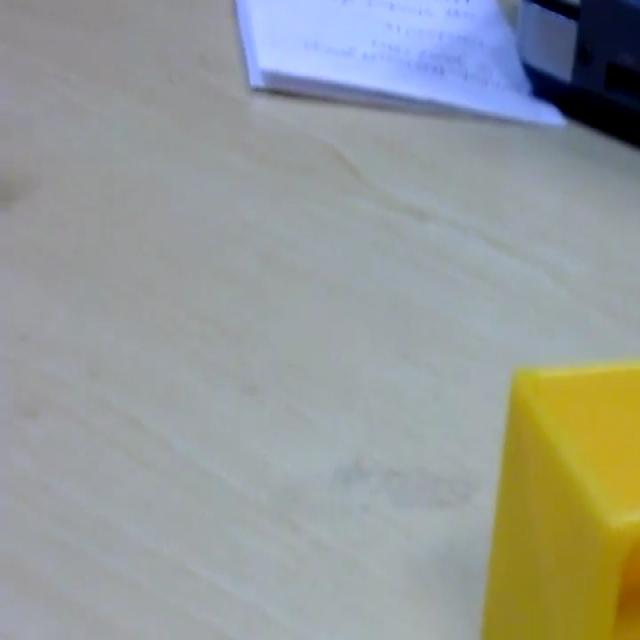yellow_block: (480, 357, 639, 636)
